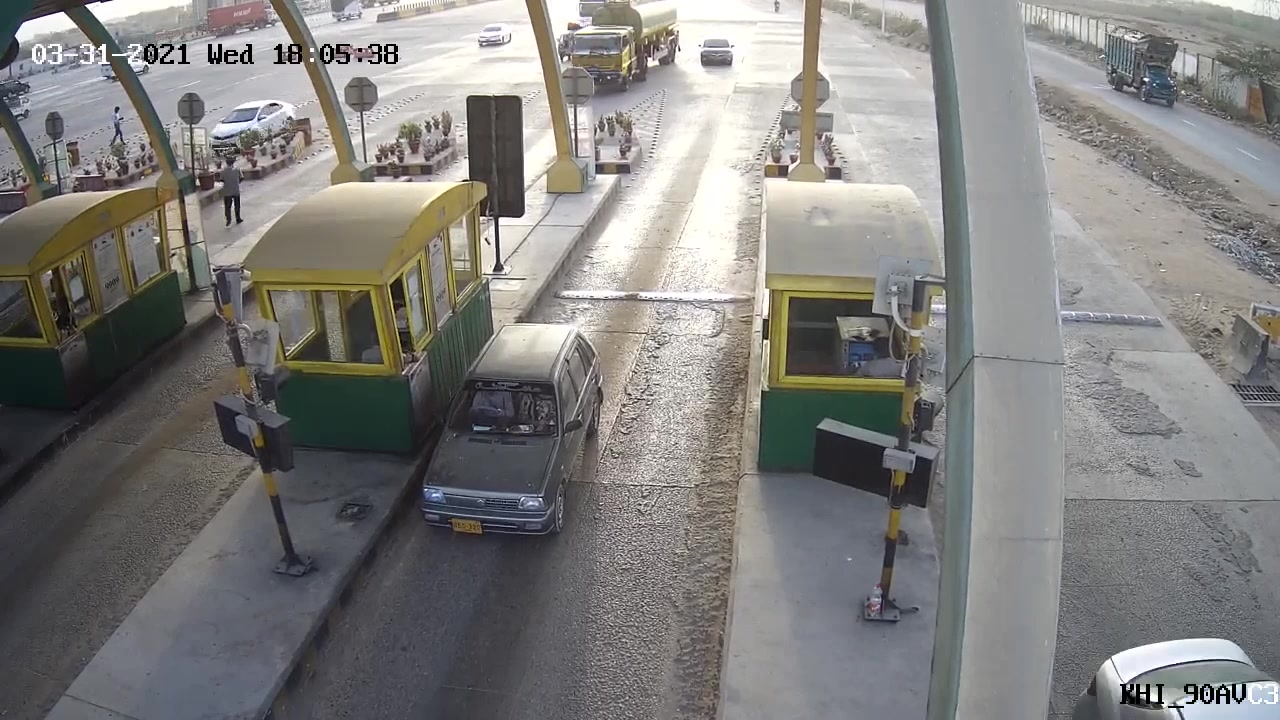F1: (406, 320, 616, 548)
